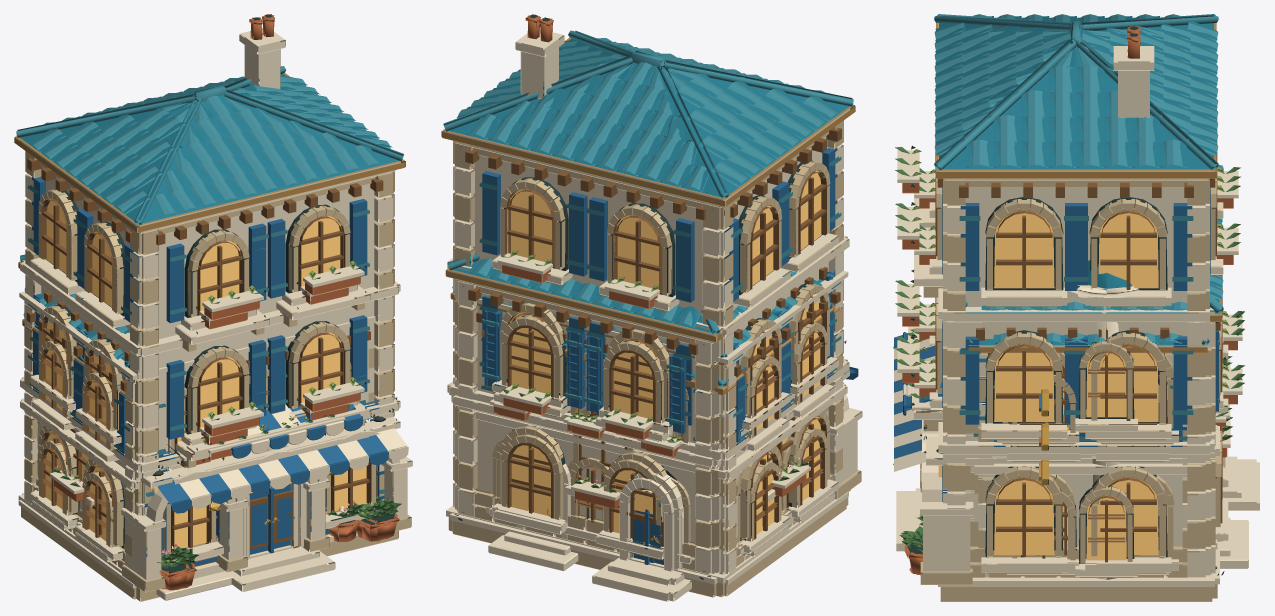
Rendered from harbor.glb.
3 views of the same model, side by side, from view 1: azimuth 30°, elevation 25°; view 2: azimuth 150°, elevation 25°; view 3: azimuth 270°, elevation 25° (orthographic). The views are drawn at different scales.
Parts seen in each view (by area): view 1: harbor_villa_3_geometry, harbor_tower_2_geometry, harbor_shop_2_geometry, harbor_hotel_2_geometry, harbor_junction_hub_geometry; view 2: harbor_villa_3_geometry, harbor_shop_2_geometry, harbor_tower_2_geometry, harbor_junction_hub_geometry, harbor_hotel_2_geometry; view 3: harbor_villa_3_geometry, harbor_shop_2_geometry, harbor_hotel_2_geometry, harbor_tower_2_geometry, harbor_junction_hub_geometry.
Part boxes in pixels (x1=…): harbor_villa_3_geometry: x1=14, y1=14, x2=405, y2=601; harbor_tower_2_geometry: x1=18, y1=291, x2=382, y2=599; harbor_shop_2_geometry: x1=18, y1=254, x2=408, y2=588; harbor_hotel_2_geometry: x1=24, y1=288, x2=412, y2=592; harbor_junction_hub_geometry: x1=22, y1=313, x2=363, y2=600; harbor_villa_3_geometry: x1=441, y1=14, x2=855, y2=601; harbor_shop_2_geometry: x1=445, y1=241, x2=858, y2=601; harbor_tower_2_geometry: x1=469, y1=271, x2=848, y2=597; harbor_junction_hub_geometry: x1=481, y1=302, x2=839, y2=571; harbor_hotel_2_geometry: x1=450, y1=272, x2=862, y2=557; harbor_villa_3_geometry: x1=895, y1=14, x2=1256, y2=601; harbor_shop_2_geometry: x1=893, y1=165, x2=1259, y2=598; harbor_hotel_2_geometry: x1=910, y1=326, x2=1228, y2=584; harbor_tower_2_geometry: x1=906, y1=260, x2=1232, y2=579; harbor_junction_hub_geometry: x1=903, y1=332, x2=1248, y2=568.
Size of the model in its own units: 1.04 by 1.6 by 0.99.
